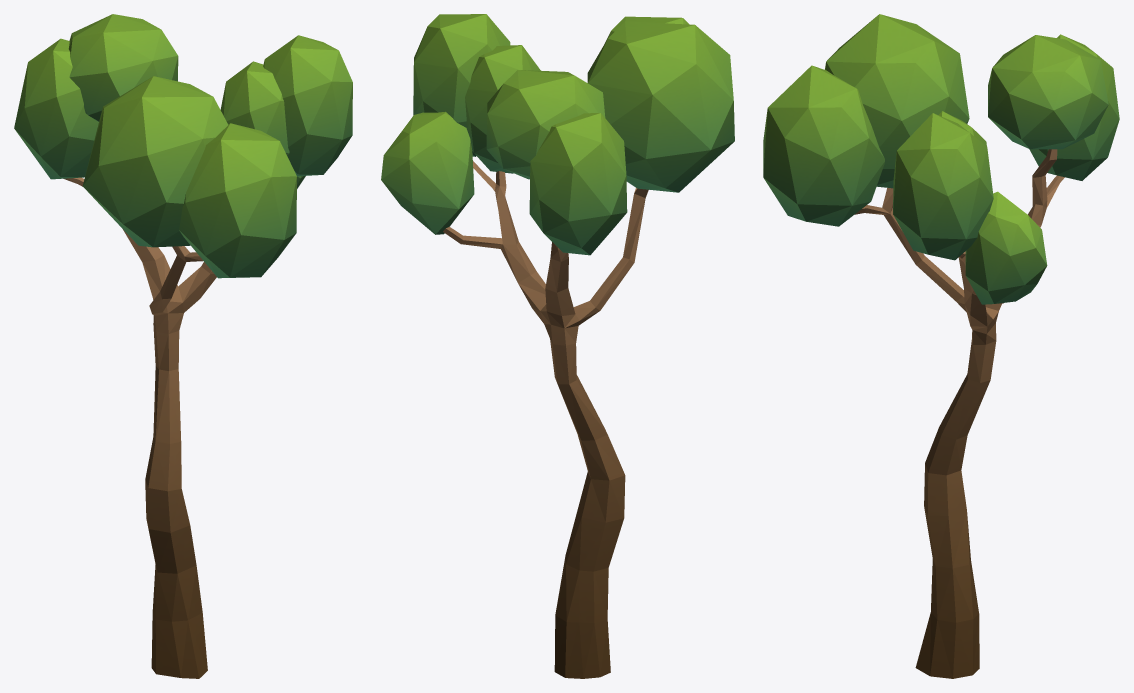
File: ZLP_Plant_I_9.FBX
The picture shows the model from 3 angles, left to right: view 1: azimuth 30°, elevation 25°; view 2: azimuth 150°, elevation 25°; view 3: azimuth 270°, elevation 25°; orthographic projection. The views are drawn at different scales.
Parts seen in each view (by area): view 1: ZLP_Plant_I_9; view 2: ZLP_Plant_I_9; view 3: ZLP_Plant_I_9.
Part boxes in pixels (x1,y1,x2,y2): ZLP_Plant_I_9: (14,14,352,678); ZLP_Plant_I_9: (381,14,734,678); ZLP_Plant_I_9: (763,14,1119,678).
Size of the model in its own units: 81.13 by 171 by 89.46.
